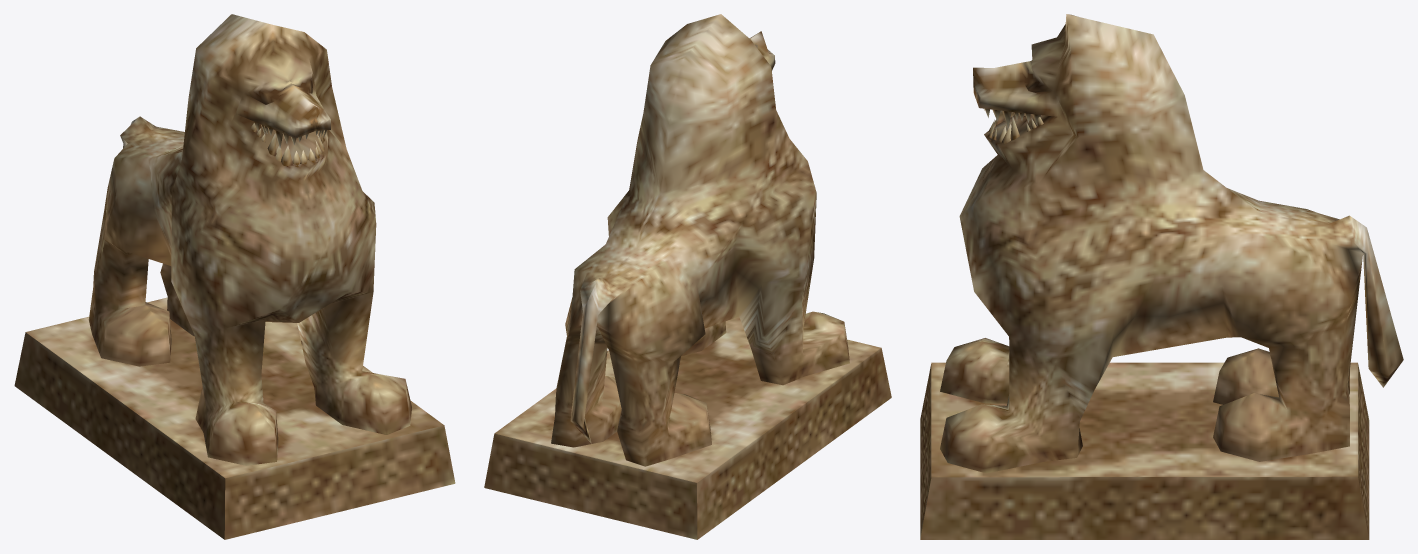
Rendered from general_obj_lionstoneimage.glb.
3 views of the same model, side by side, from view 1: azimuth 30°, elevation 25°; view 2: azimuth 150°, elevation 25°; view 3: azimuth 270°, elevation 25° (orthographic). The views are drawn at different scales.
Visible parts, largest first — view 1: Object19; view 2: Object19; view 3: Object19.
Part boxes in pixels (box(x1,y1,x2,y2)): Object19: box(14, 14, 455, 539); Object19: box(484, 14, 891, 539); Object19: box(920, 14, 1403, 539).
Size of the model in its own units: 2.77 by 5.01 by 4.71.
Materials: 1 (1 with a texture image).
